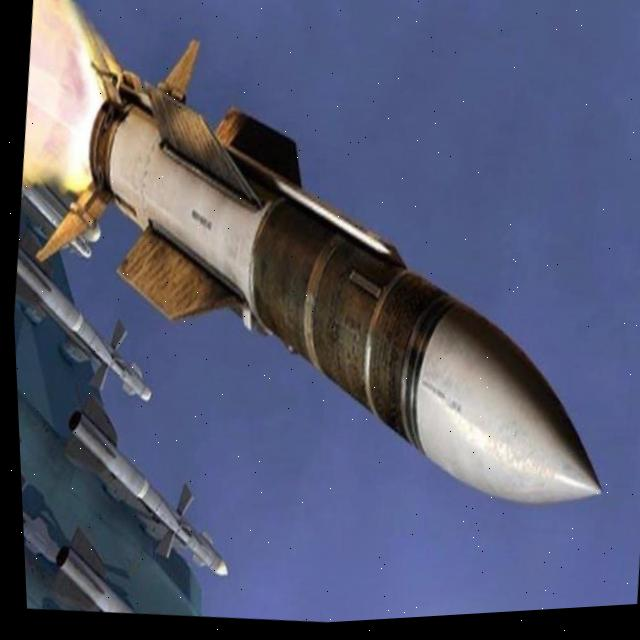missile: (37, 403, 245, 590), (9, 243, 176, 416), (33, 540, 137, 615)
